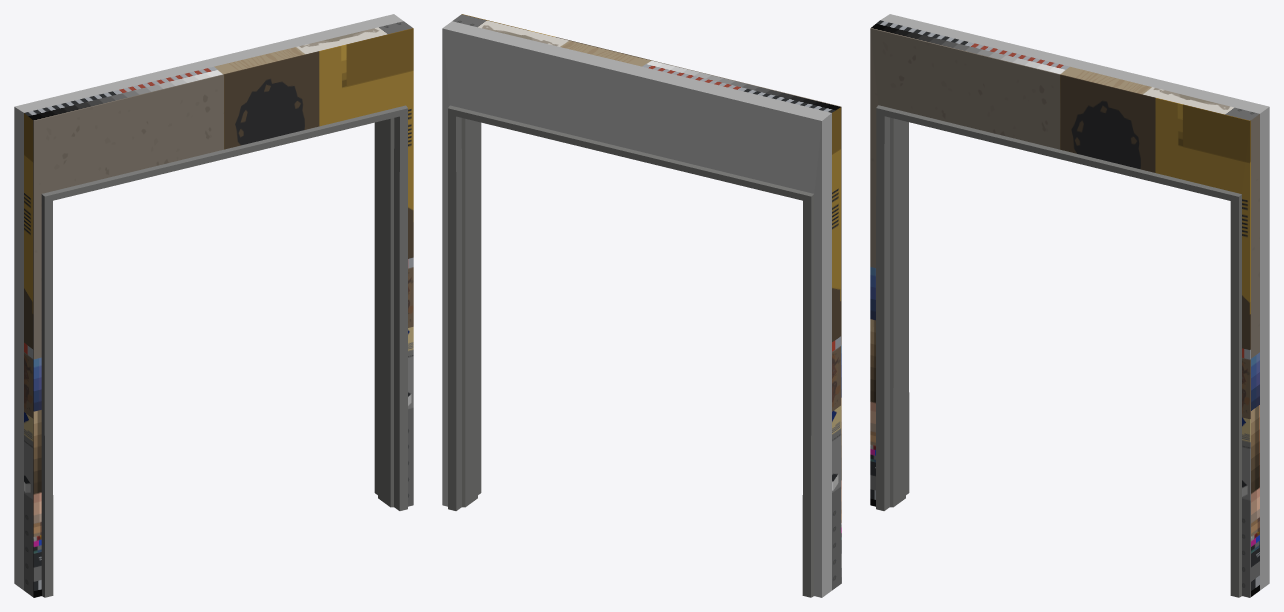
Rendered from SM_Bld_Base_Wall_Door_Double_Large_01.glb.
3 views of the same model, side by side, from view 1: azimuth 30°, elevation 25°; view 2: azimuth 150°, elevation 25°; view 3: azimuth 330°, elevation 25° (orthographic).
Visible parts, largest first — view 1: SM_Bld_Base_Wall_Door_Double_Large_01; view 2: SM_Bld_Base_Wall_Door_Double_Large_01; view 3: SM_Bld_Base_Wall_Door_Double_Large_01.
Boxes of the visible parts, x1,y1,x2,y2 form: SM_Bld_Base_Wall_Door_Double_Large_01: [14, 14, 413, 597]; SM_Bld_Base_Wall_Door_Double_Large_01: [442, 14, 841, 597]; SM_Bld_Base_Wall_Door_Double_Large_01: [870, 14, 1269, 597].
Bounding box in the file's own units: 2.5 × 3.01 × 0.288.
3 materials, 2 textured.
